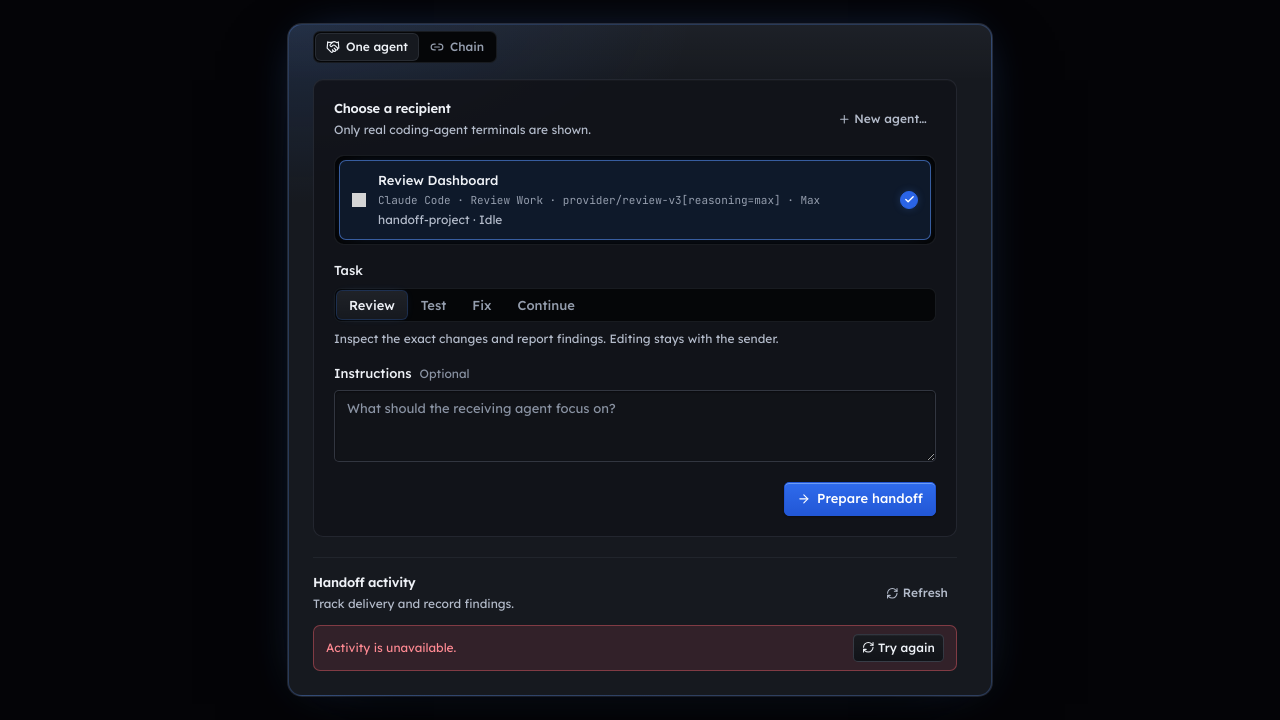
Test: HandOffDialog › offers Try again when handoff activity can't load
(page scrolled)
Expected: the message shows "Activity is unavailable.", [326,640,456,655]
Click the button "Try again". click: coordinates (898, 648)
box: [852,634,944,662]
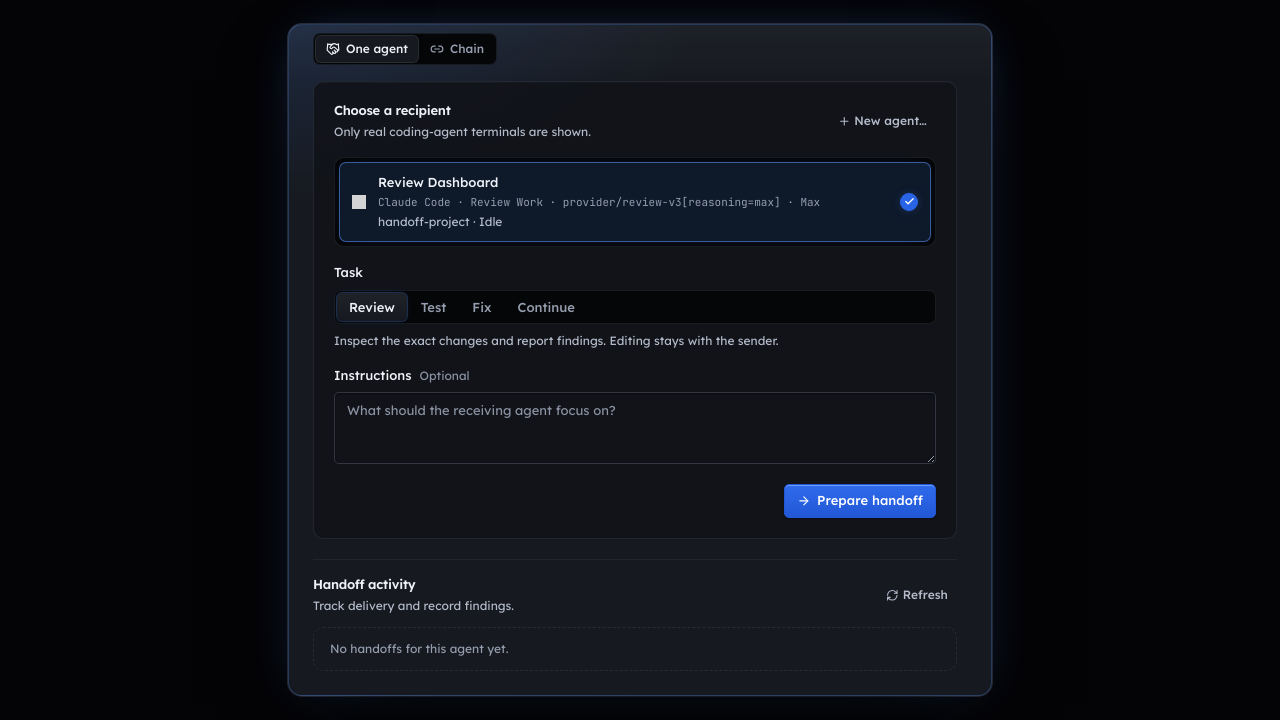
Expected: the text "No handoffs for this agent yet." is shown, [313,627,957,671]
